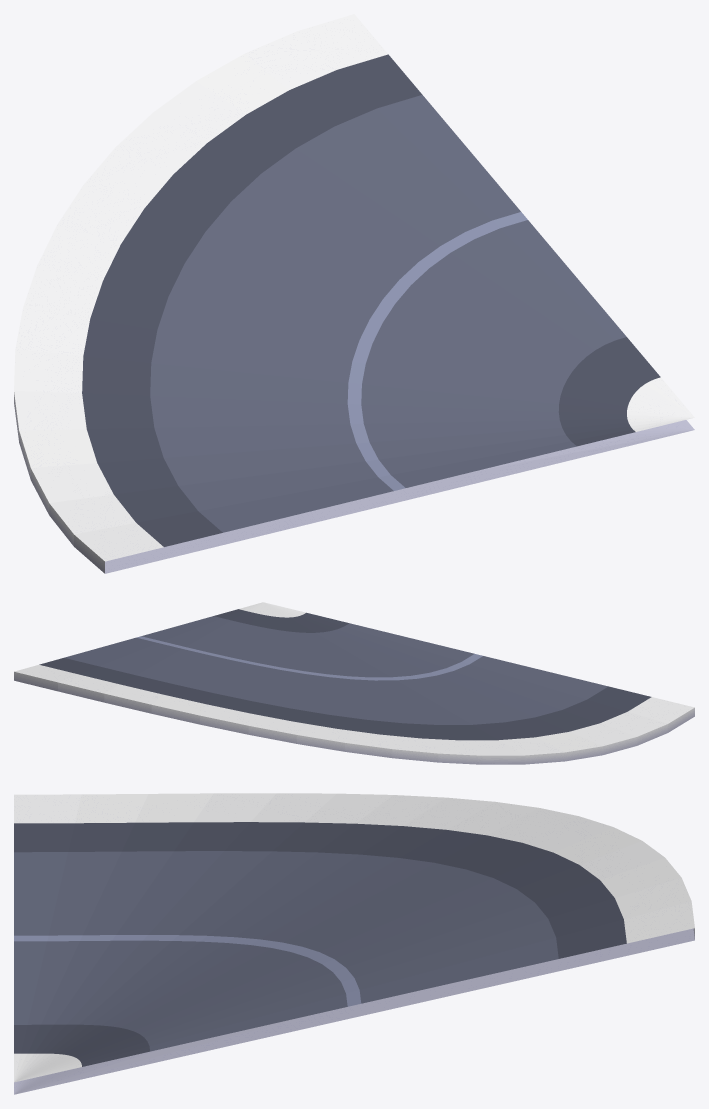
Rendered from road-Turn-Flat-HalfBankedRight-Even-Right-Size1.glb.
3 views of the same model, one above another, from view 1: azimuth 30°, elevation 25°; view 2: azimuth 150°, elevation 25°; view 3: azimuth 270°, elevation 25° (orthographic). The views are drawn at different scales.
Visible parts, largest first — view 1: road-Turn-Flat-HalfBankedRight-Even-Right-Size1; view 2: road-Turn-Flat-HalfBankedRight-Even-Right-Size1; view 3: road-Turn-Flat-HalfBankedRight-Even-Right-Size1.
Part boxes in pixels (box(x1,y1,x2,y2)): road-Turn-Flat-HalfBankedRight-Even-Right-Size1: box(14, 14, 694, 573); road-Turn-Flat-HalfBankedRight-Even-Right-Size1: box(14, 602, 694, 764); road-Turn-Flat-HalfBankedRight-Even-Right-Size1: box(14, 793, 694, 1094).
Bounding box in the file's own units: 1 × 0.27 × 1.
1 material, 1 textured.
